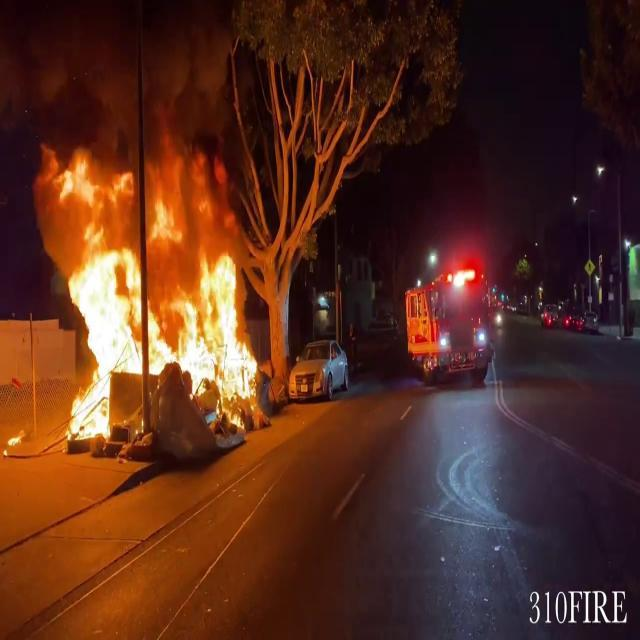Fire: (49, 163, 262, 441)
